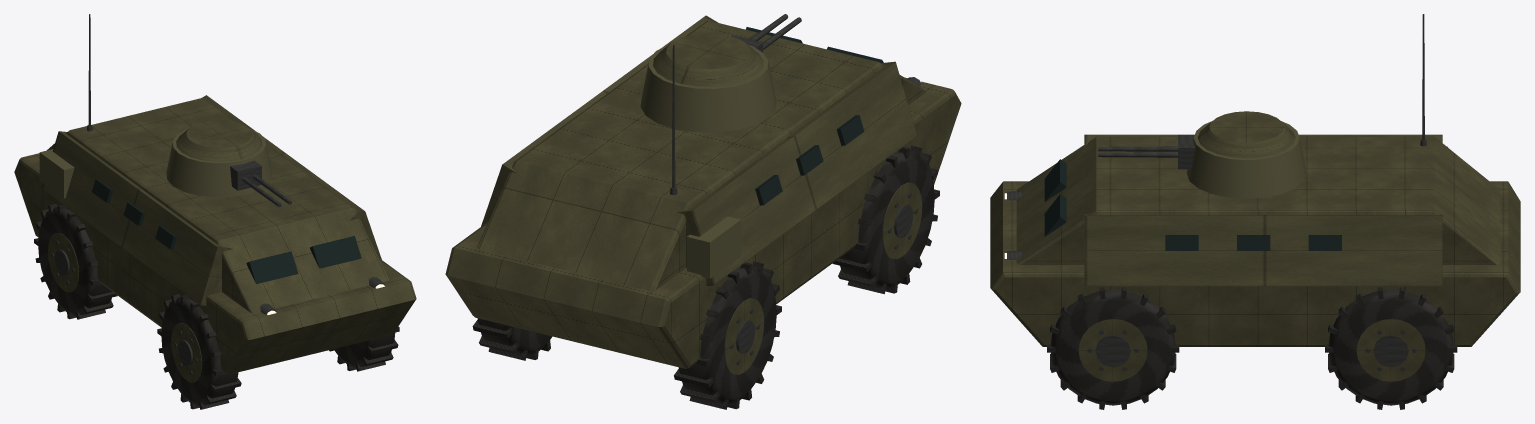
File: v100_commando_lod0.glb
3 renders of one model, left to right at view 1: azimuth 30°, elevation 25°; view 2: azimuth 150°, elevation 25°; view 3: azimuth 270°, elevation 25°, orthographic. The views are drawn at different scales.
Visible parts, largest first — view 1: V100_Commando; view 2: V100_Commando; view 3: V100_Commando.
Boxes of the visible parts, <box> form: V100_Commando: <box>14,14,416,409</box>; V100_Commando: <box>445,14,961,409</box>; V100_Commando: <box>990,14,1520,409</box>.
Size of the model in its own units: 2.49 by 3.56 by 5.4.
Materials: 6 (3 with a texture image).
